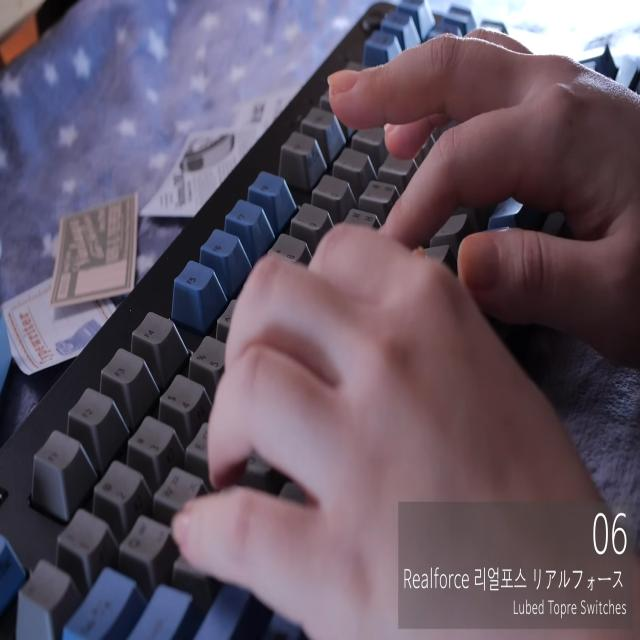keyboard-with-hands: (0, 1, 638, 640)
